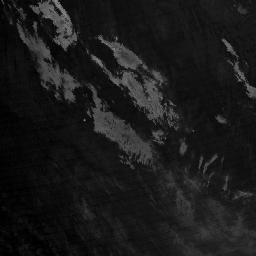Target: (82, 118, 87, 122)
